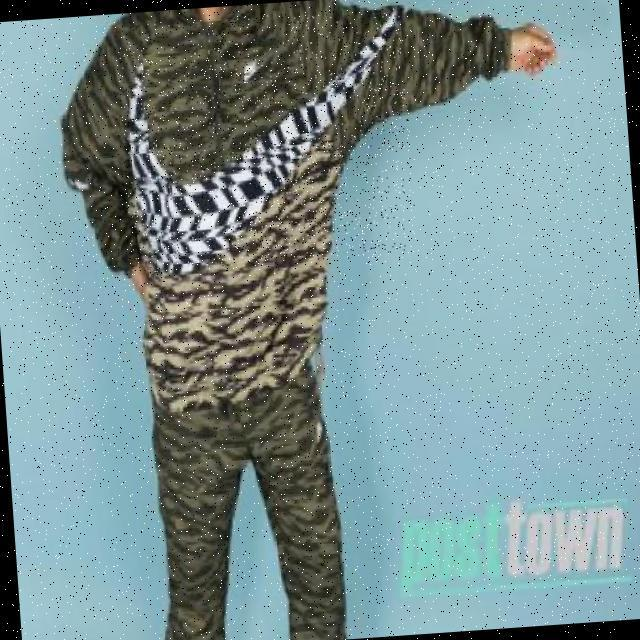Nike: (115, 5, 417, 273), (238, 57, 258, 78)
